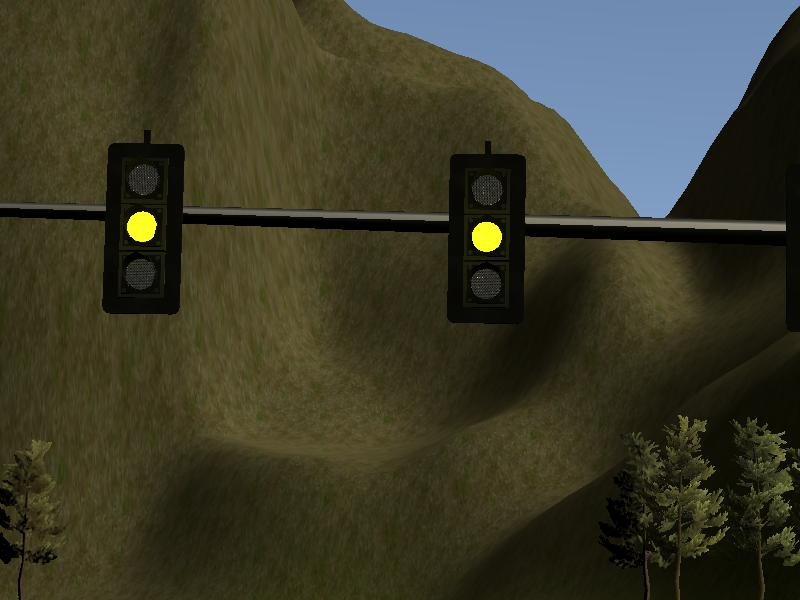yellow: (106, 142, 180, 313), (450, 154, 524, 325)
